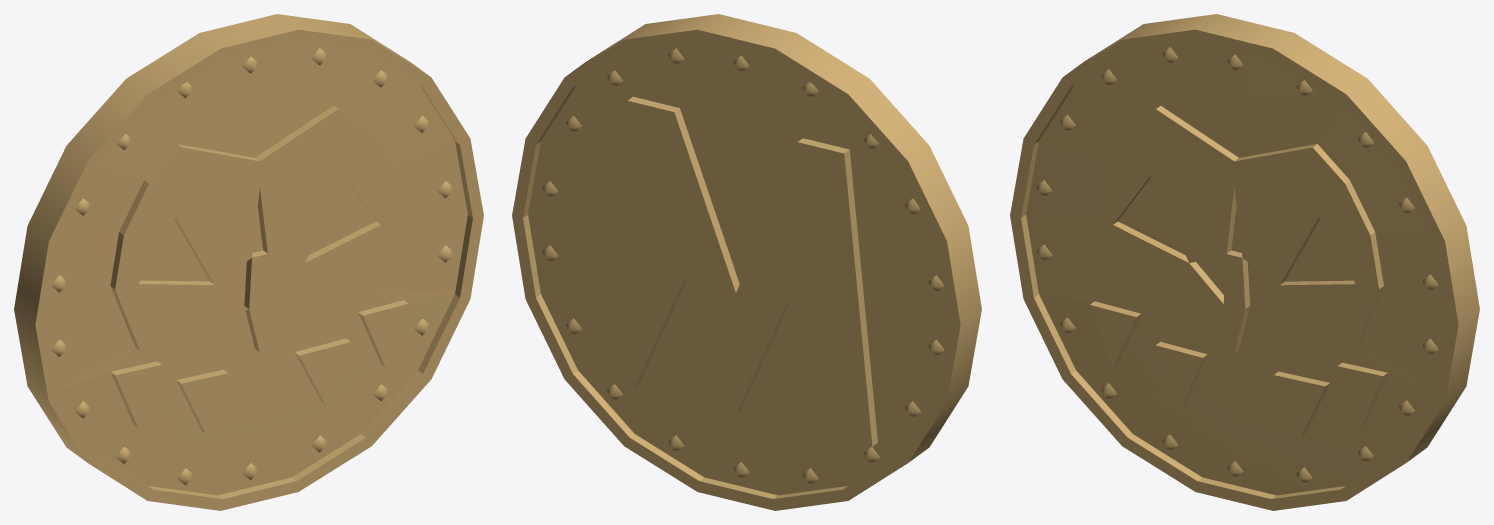
Rendered from coin.fbx.
3 renders of one model, left to right at view 1: azimuth 30°, elevation 25°; view 2: azimuth 150°, elevation 25°; view 3: azimuth 330°, elevation 25°, orthographic.
Visible parts, largest first — view 1: Sphere012; view 2: Sphere012; view 3: Sphere012.
Part boxes in pixels (left/top/right/bottom): Sphere012: left=14, top=14, right=483, bottom=510; Sphere012: left=512, top=14, right=981, bottom=510; Sphere012: left=1010, top=14, right=1479, bottom=510.
Size of the model in its own units: 61.44 by 60.5 by 5.19.
1 material, 1 textured.
